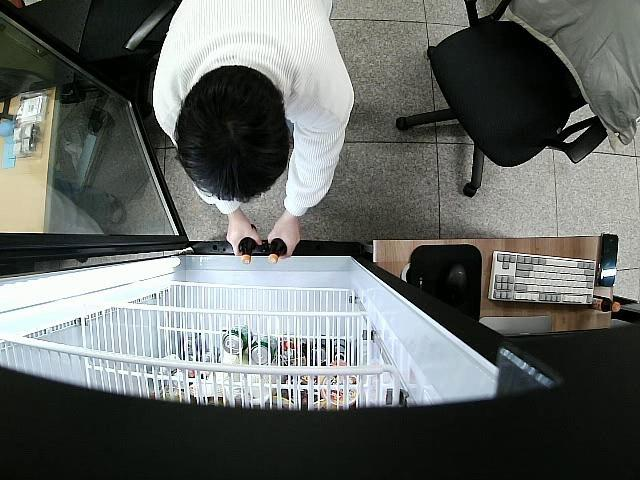17_vita500: (237, 225, 262, 266), (266, 239, 286, 266)
